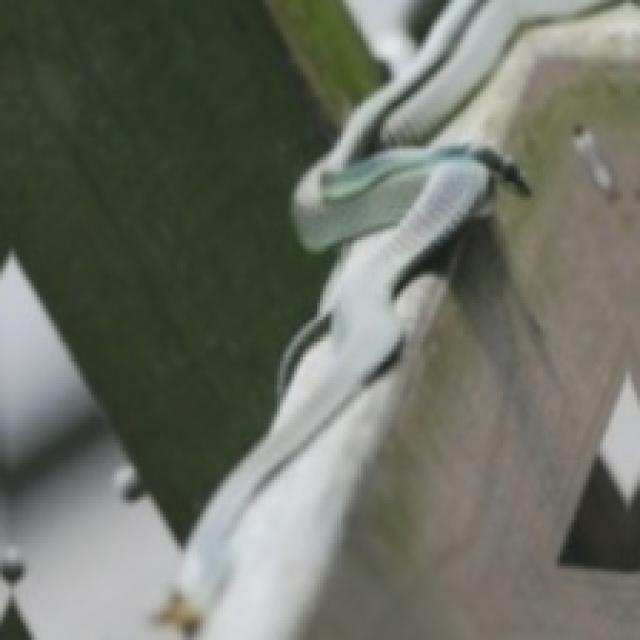paradise tree snake: (180, 0, 637, 637), (180, 140, 526, 637)
